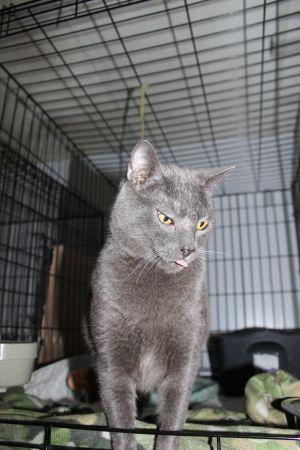rblue: (75, 137, 218, 291)
